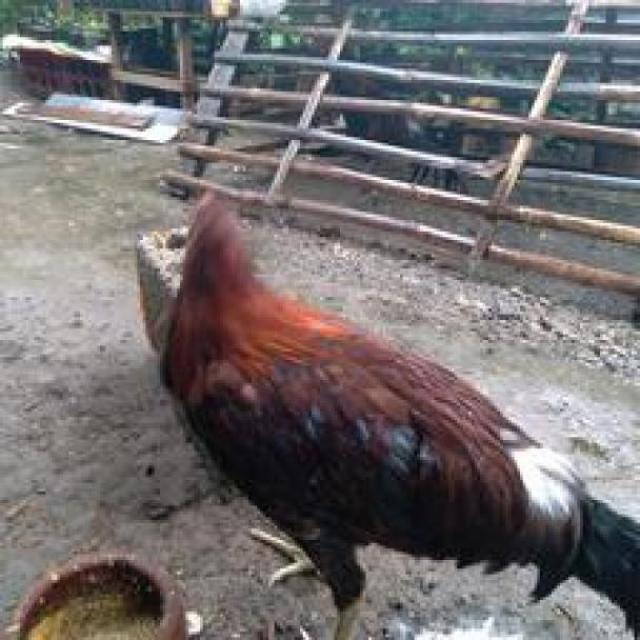Chicken: (148, 177, 640, 640)
